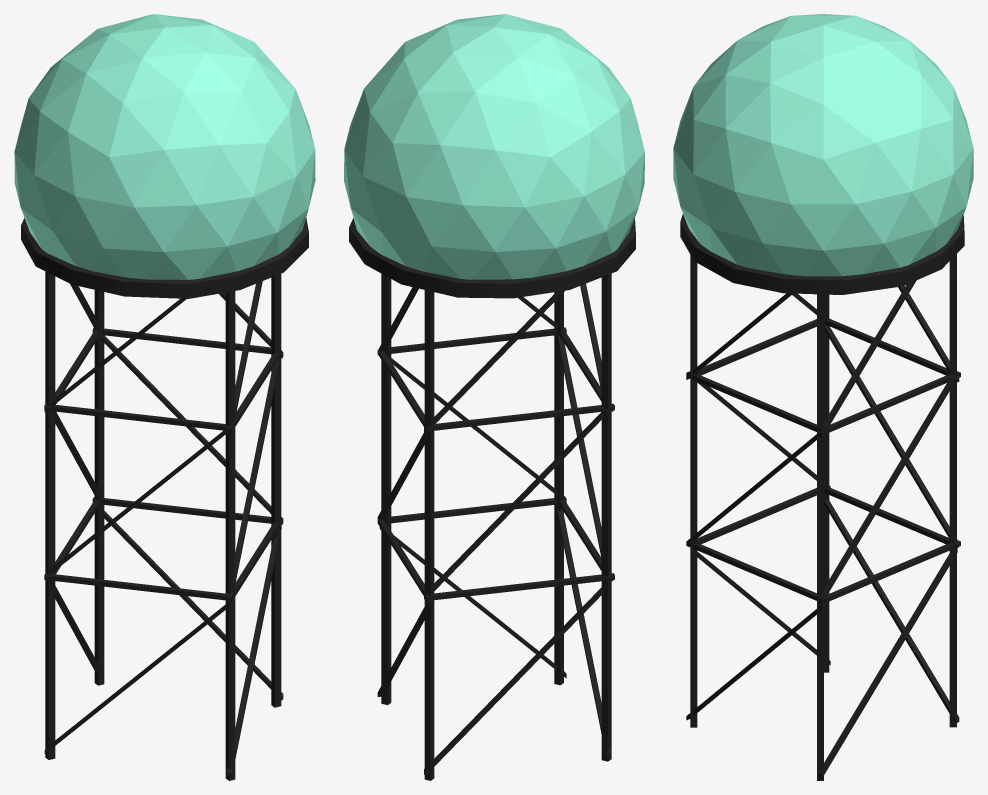
The model's file is Radar.obj.
3 renders of one model, left to right at view 1: azimuth 30°, elevation 25°; view 2: azimuth 150°, elevation 25°; view 3: azimuth 270°, elevation 25°, orthographic.
Parts seen in each view (by area): view 1: RadarSphere_Mesh_BuildingWhite, RadarSphere_Mesh_BuildingMetal; view 2: RadarSphere_Mesh_BuildingWhite, RadarSphere_Mesh_BuildingMetal; view 3: RadarSphere_Mesh_BuildingWhite, RadarSphere_Mesh_BuildingMetal.
Part boxes in pixels (x1,y1,x2,y2): RadarSphere_Mesh_BuildingWhite: (14,14,315,279); RadarSphere_Mesh_BuildingMetal: (21,218,308,780); RadarSphere_Mesh_BuildingWhite: (344,14,644,279); RadarSphere_Mesh_BuildingMetal: (349,218,635,780); RadarSphere_Mesh_BuildingWhite: (673,14,973,276); RadarSphere_Mesh_BuildingMetal: (680,214,964,780).
Size of the model in its own units: 3.71 by 9.53 by 3.7.
